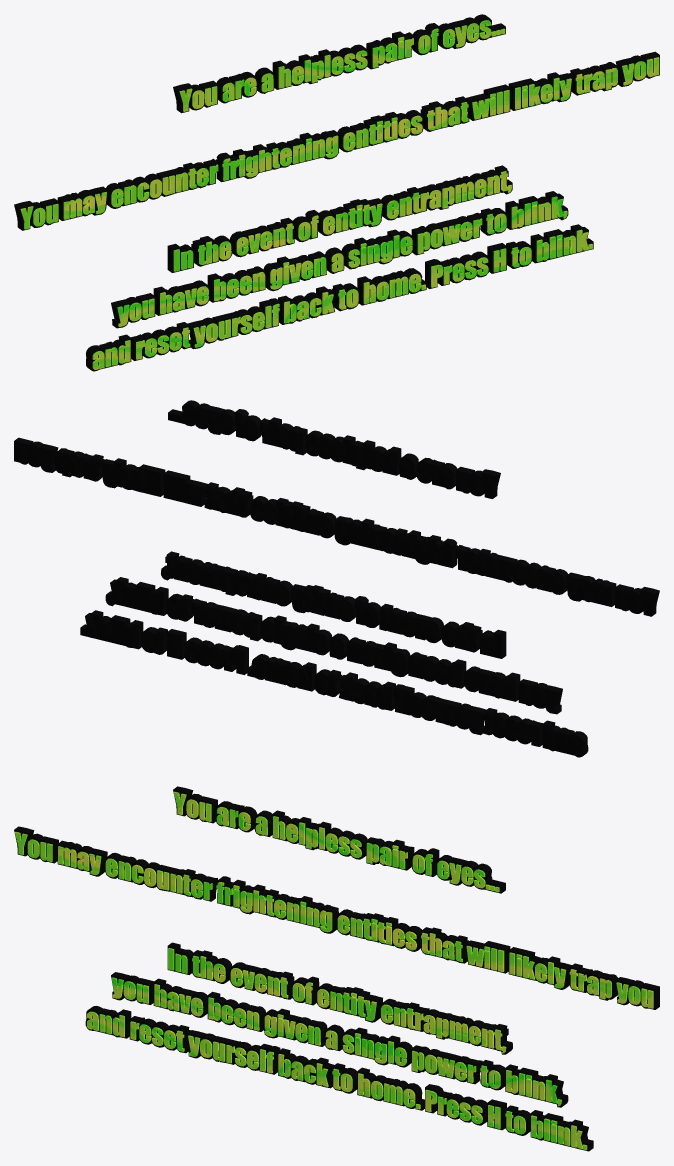
Rendered from hint 1.glb.
The picture shows the model from 3 angles, top to bottom: view 1: azimuth 30°, elevation 25°; view 2: azimuth 150°, elevation 25°; view 3: azimuth 330°, elevation 25°; orthographic projection.
Visible parts, largest first — view 1: Text, Text.001; view 2: Text.001; view 3: Text, Text.001.
Boxes of the visible parts, x1=… form: Text: x1=20, y1=20, x2=659, y2=369; Text.001: x1=14, y1=14, x2=659, y2=371; Text.001: x1=14, y1=400, x2=659, y2=757; Text: x1=15, y1=791, x2=653, y2=1150; Text.001: x1=14, y1=786, x2=659, y2=1151.
Size of the model in its own units: 17.03 by 6.69 by 0.2823.
Materials: 2 (1 with a texture image).
